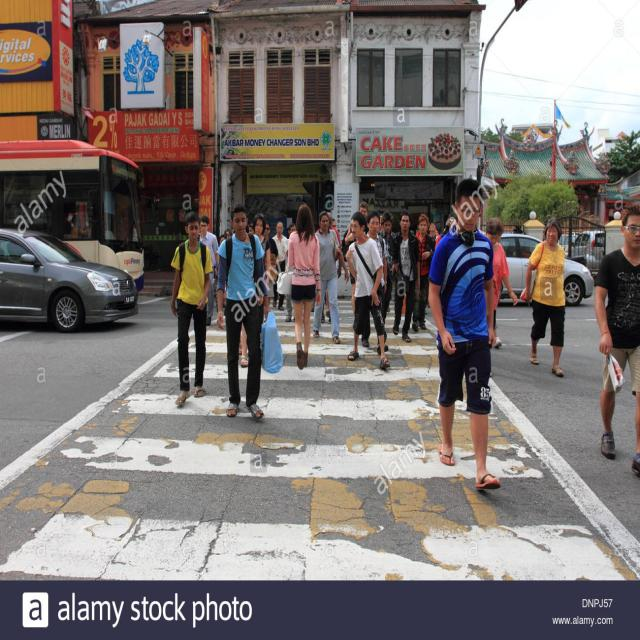body: (426, 177, 504, 495), (591, 198, 639, 488), (214, 201, 272, 422), (0, 174, 141, 264), (169, 212, 213, 406), (518, 213, 566, 380), (344, 210, 392, 371), (287, 203, 322, 371), (311, 210, 350, 346), (482, 215, 518, 348), (388, 210, 422, 344), (360, 210, 390, 355), (410, 212, 438, 334), (341, 200, 369, 320), (318, 211, 343, 324), (377, 210, 398, 314), (198, 215, 216, 327), (271, 221, 289, 312), (251, 210, 272, 287), (488, 275, 506, 356), (262, 219, 278, 310), (284, 224, 298, 322), (426, 215, 459, 252), (234, 331, 265, 370), (496, 235, 541, 258), (316, 210, 340, 245), (423, 280, 433, 316), (216, 226, 232, 243), (376, 214, 386, 237), (513, 220, 525, 233), (330, 218, 338, 230), (246, 222, 254, 231), (379, 213, 383, 231)
